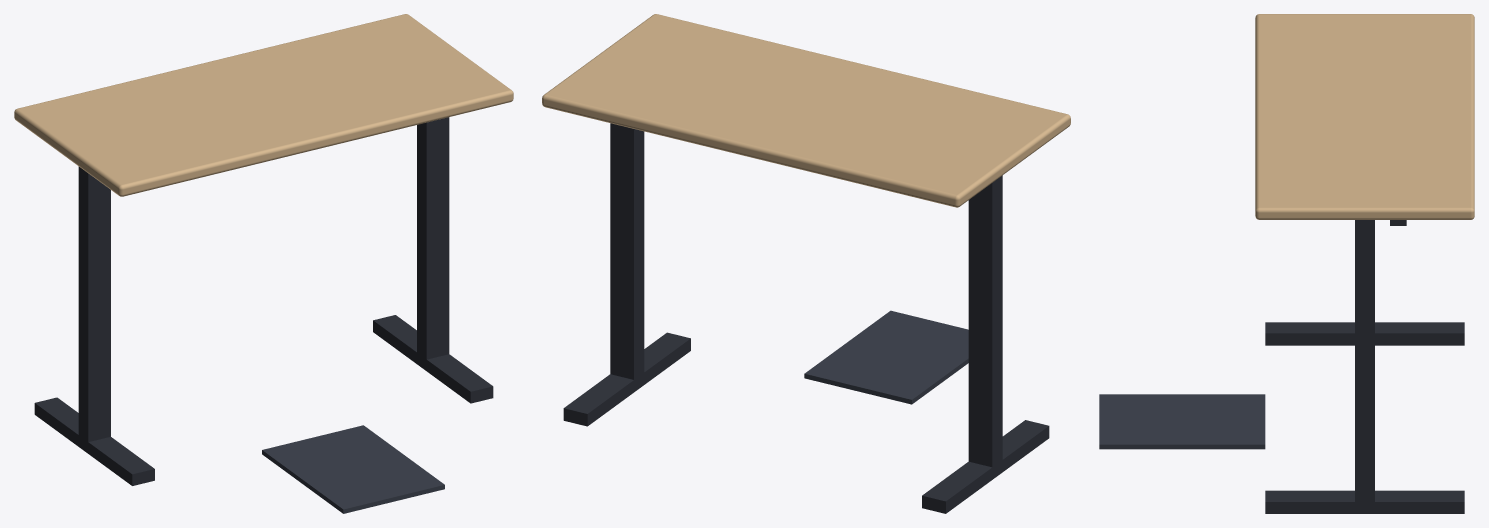
Rendered from mesa-em-pe.glb.
The picture shows the model from 3 angles, left to right: view 1: azimuth 30°, elevation 25°; view 2: azimuth 150°, elevation 25°; view 3: azimuth 270°, elevation 25°; orthographic projection. The views are drawn at different scales.
Visible parts, largest first — view 1: mesa-em-pe_malha; view 2: mesa-em-pe_malha; view 3: mesa-em-pe_malha.
Part boxes in pixels (x1,y1,x2,y2): mesa-em-pe_malha: [14, 14, 513, 513]; mesa-em-pe_malha: [542, 14, 1070, 513]; mesa-em-pe_malha: [1099, 14, 1474, 513].
Size of the model in its own units: 1.4 by 1.04 by 1.13.
